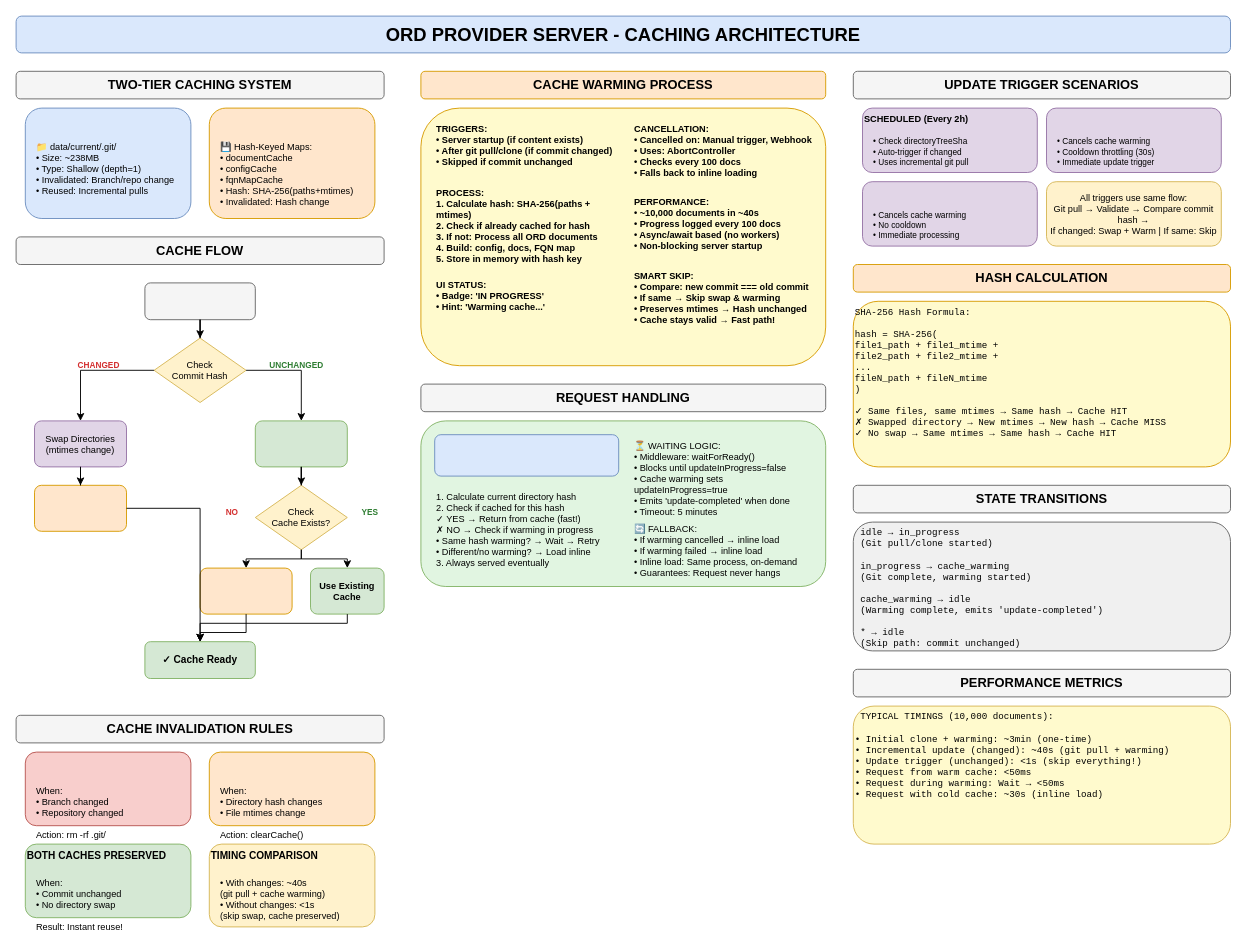
This 1247x949 diagram has some shape labels left out. Here are the shapes that lost their labels. From the top down, the box of each, then its label:
(1046, 107, 1221, 172): WEBHOOK (GitHub Push)
(24, 107, 191, 218): TIER 1: GIT CACHE (Disk - Persistent)
(208, 107, 375, 218): TIER 2: MEMORY CACHE (In-Memory - Volatile)
(862, 181, 1037, 246): MANUAL (API/UI Button)
(144, 282, 255, 320): Server Start / Update Trigger
(254, 420, 347, 467): Skip Swap
(434, 434, 619, 476): Incoming Request (/.well-known/open-resource-discovery)
(34, 484, 126, 531): Warm Cache (New Hash)
(199, 567, 292, 614): Warm Cache (Same Hash)
(24, 751, 191, 826): GIT CACHE CLEARED
(208, 751, 375, 826): MEMORY CACHE INVALIDATED
